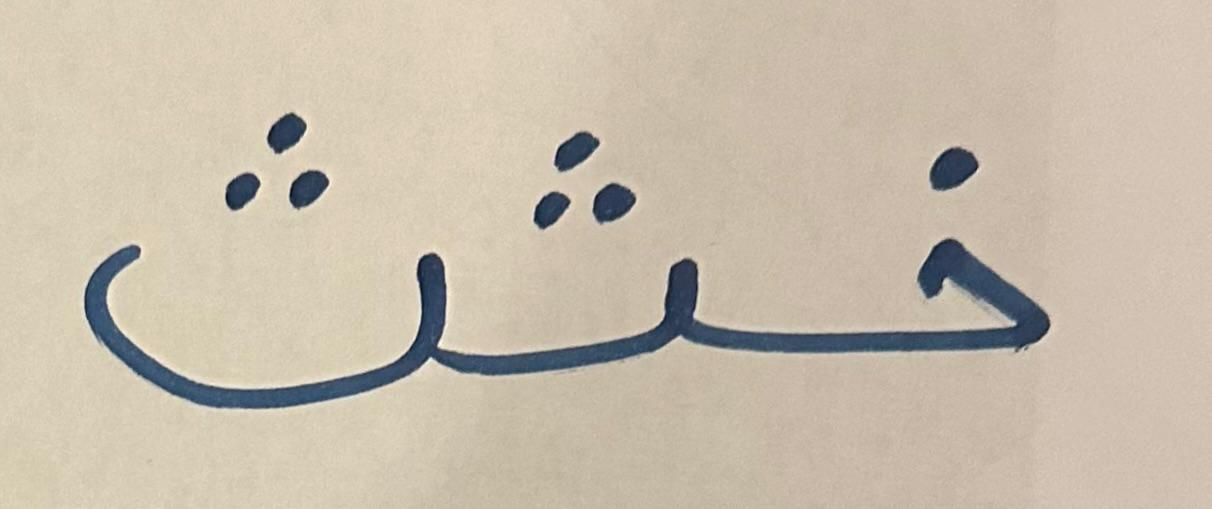lam: (758, 61, 1104, 432)
waw: (38, 38, 456, 437), (462, 75, 753, 444)
